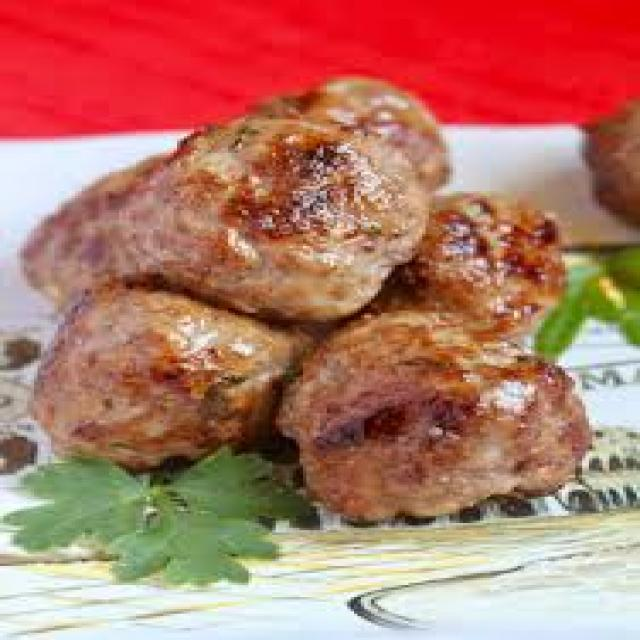Meatball: (264, 311, 603, 540), (134, 110, 454, 330), (16, 283, 301, 485)
